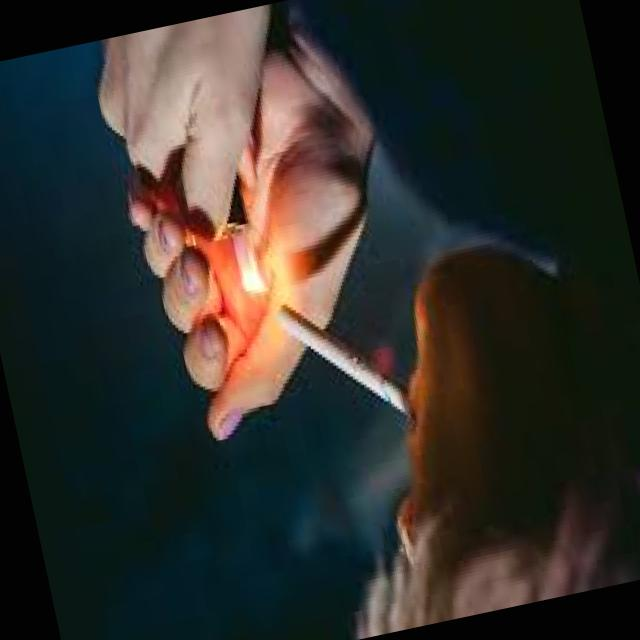smoke: (268, 245, 424, 440)
